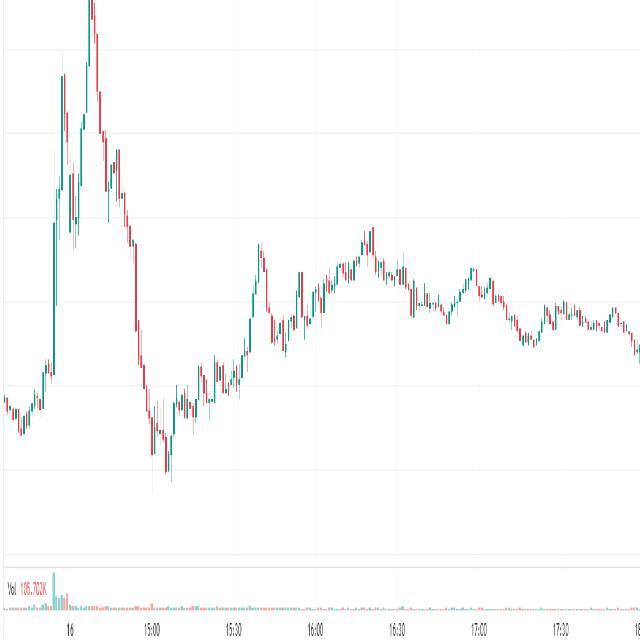Double-Bottom: (142, 370, 182, 488), (267, 296, 295, 369)
Double-Top: (467, 258, 497, 320)
